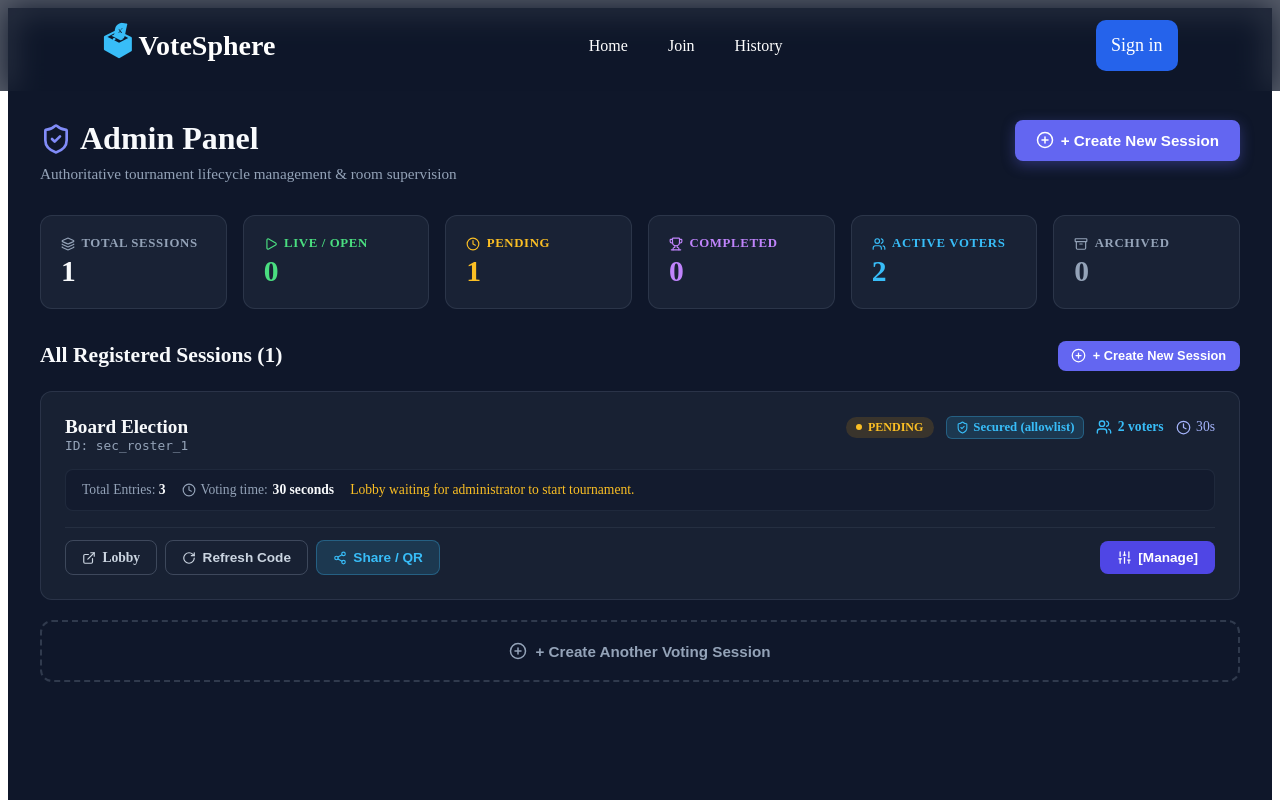
Test: Admin allowlist rows expose Remove (AC-11) › renders a Remove button on every allowlist row, joined or not
Click the button with test id "manage-session-sec_roster_1": [1157, 558] box 1100,541 -> 1215,574
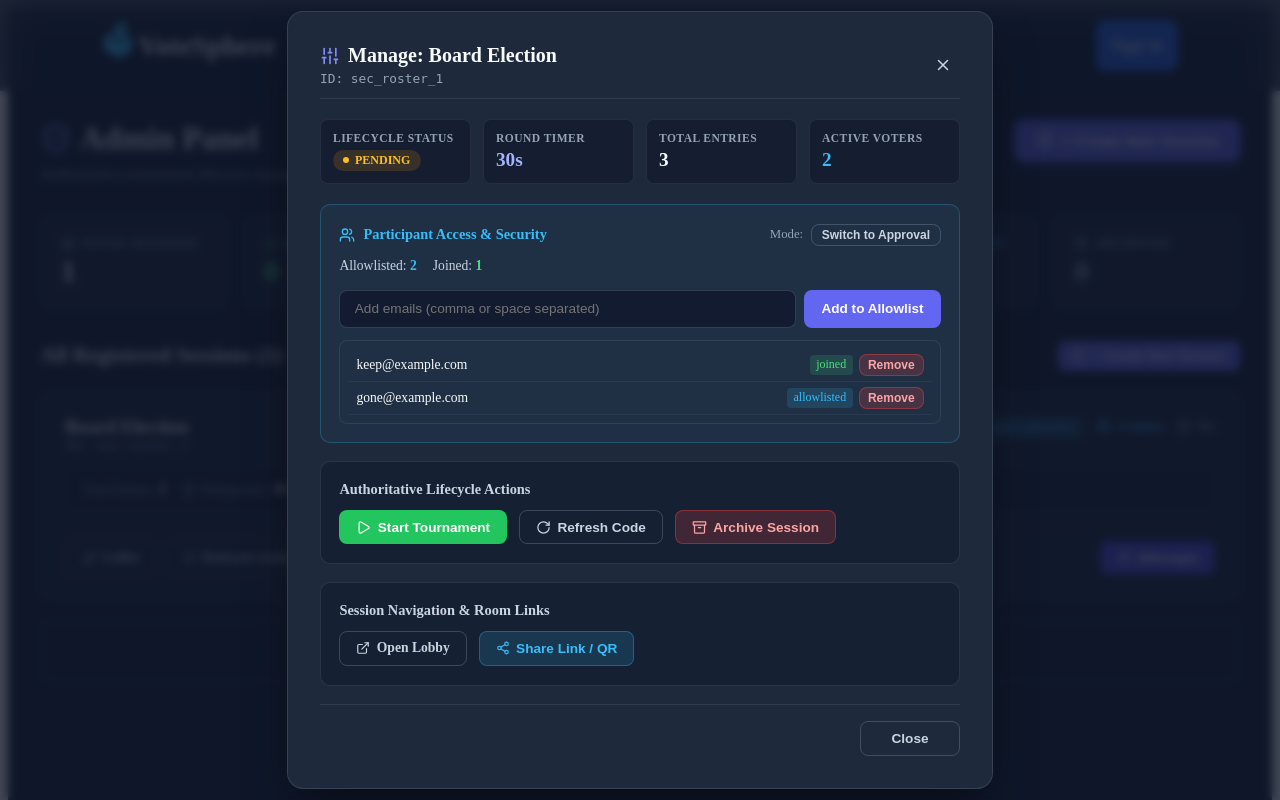
Result: the dialog with test id "manage-session-modal" is shown
Result: the button with test id "remove-participant-keep@example.com" is shown at 859,354 -> 924,376
Result: the button with test id "remove-participant-gone@example.com" is shown at 859,386 -> 924,409
